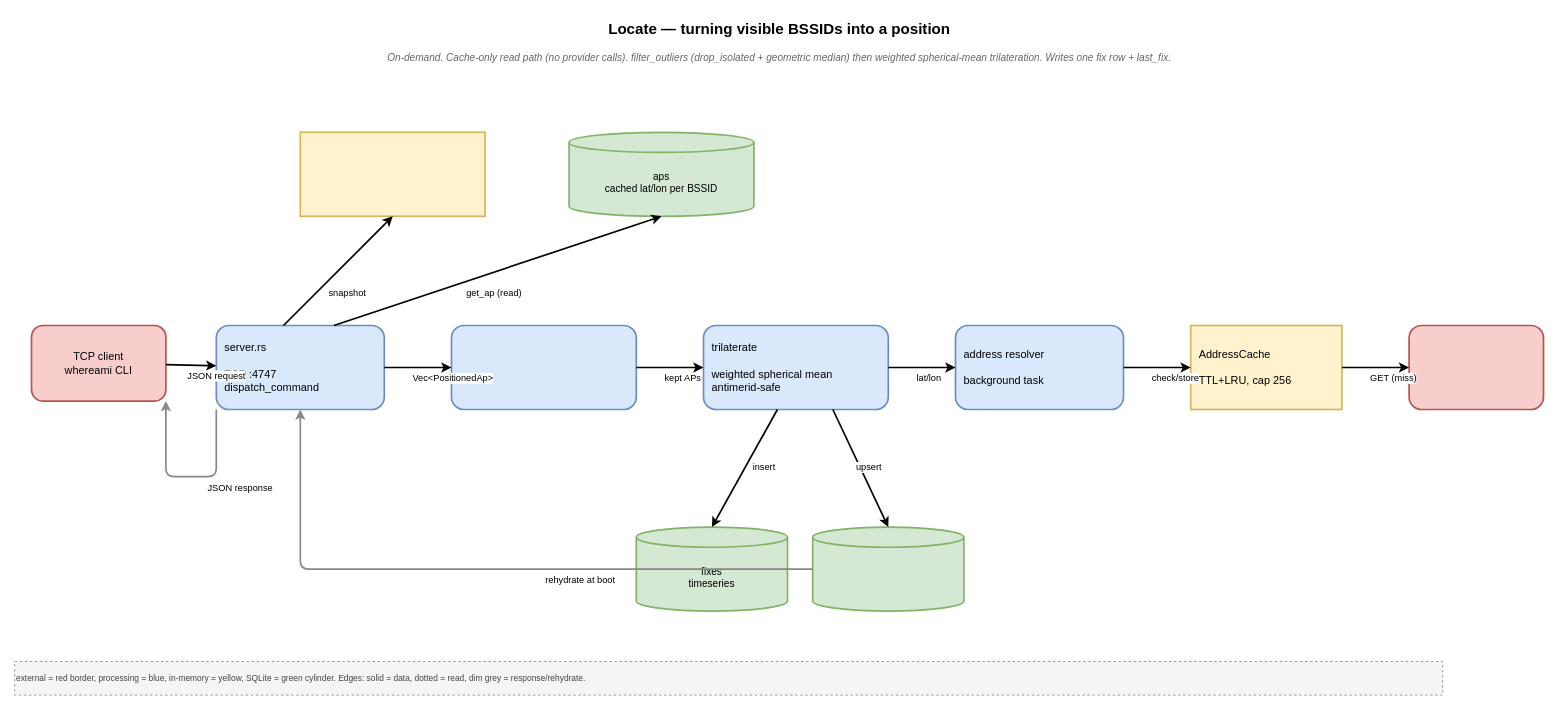
Some shapes in this 1559 by 710 pixel diagram are drawn without their labels. Here are the shapes that lost their labels. From the top down, the centre of each, then its label:
the point at 392,174: Debouncer ring buffer, stable APs
the point at 543,367: filter_outliers drop_isolated + geometric_median
the point at 1476,367: OSM Nominatim opt-in
the point at 887,569: last_fix single row, hot
